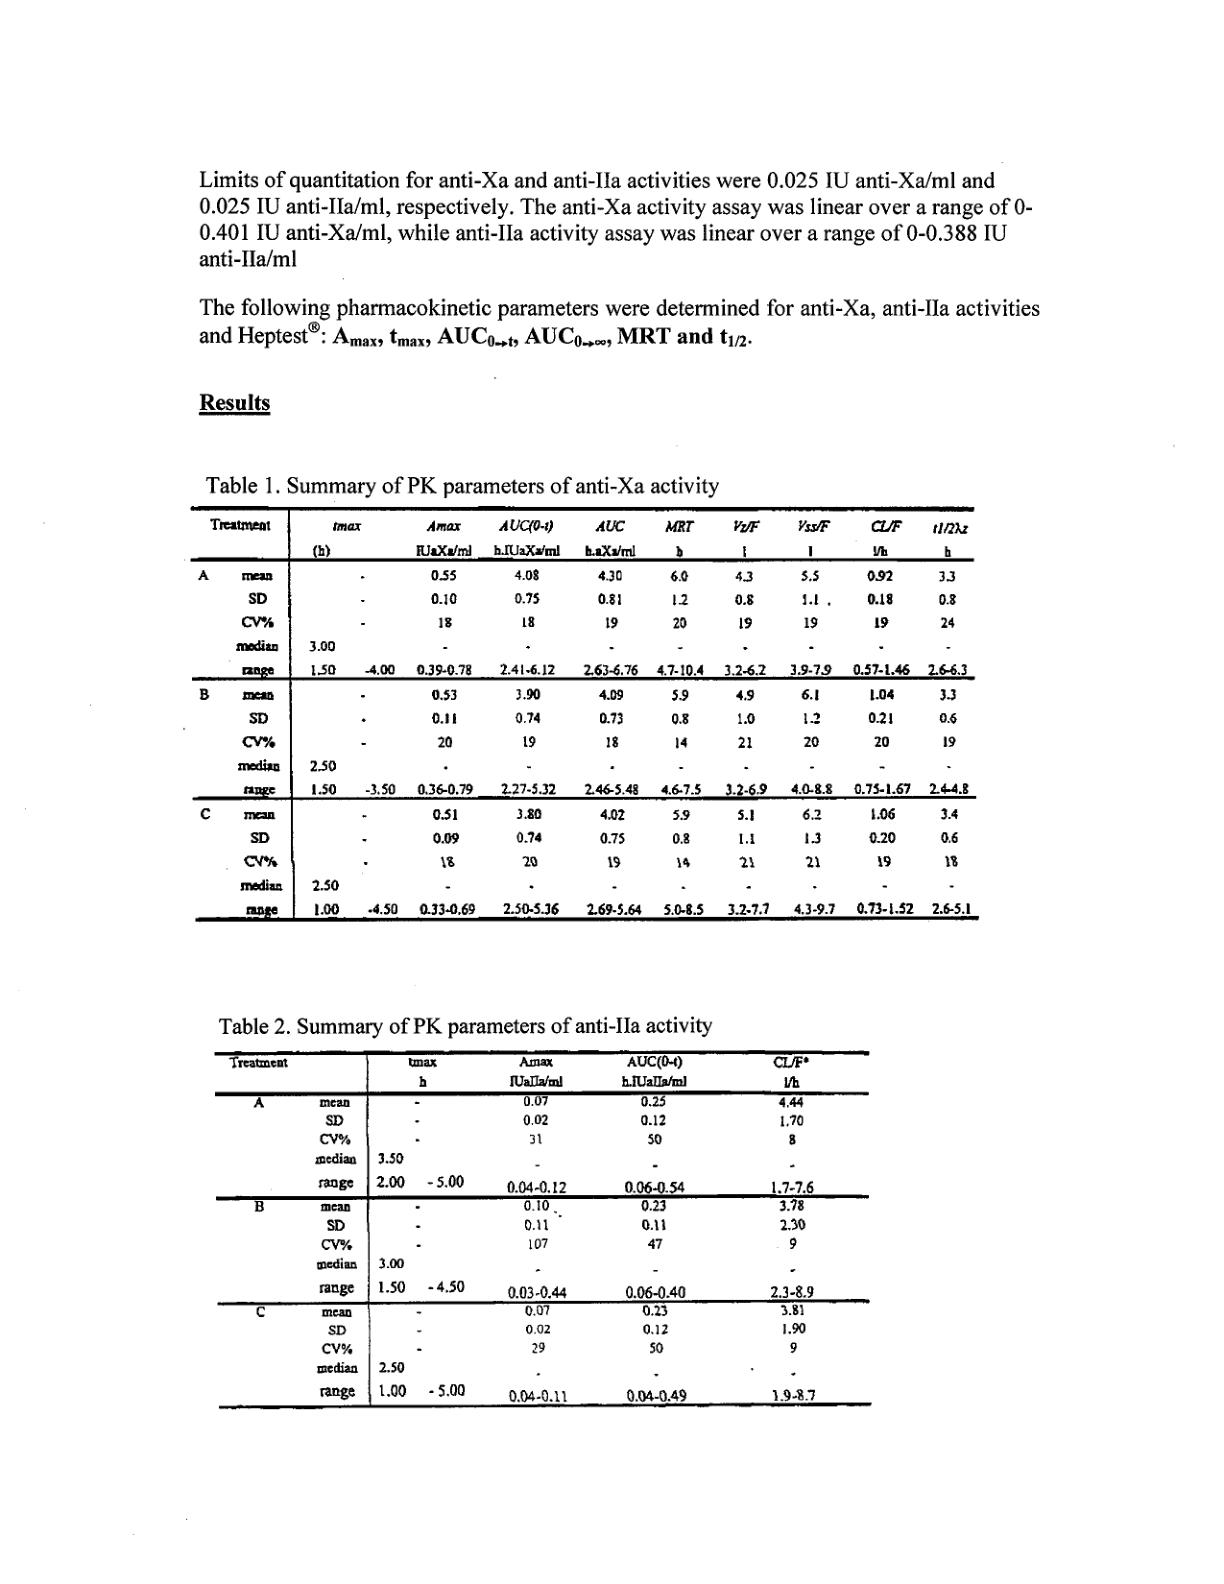partial_lined_merged_cells: (188, 504, 981, 924), (212, 1048, 873, 1412)
